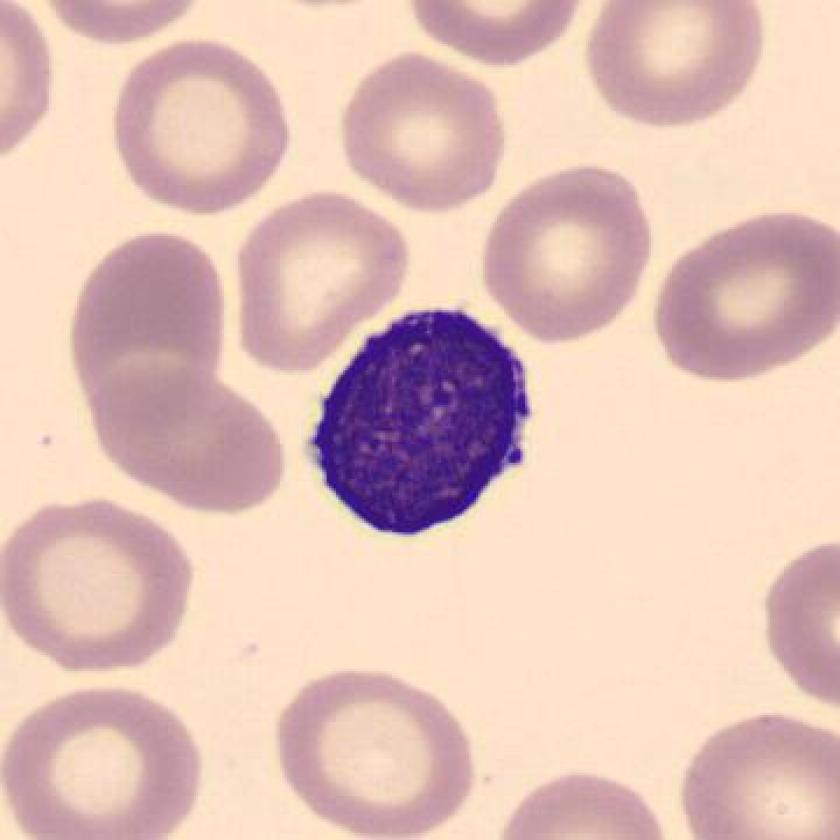lymphocyte: (298, 293, 550, 557)
